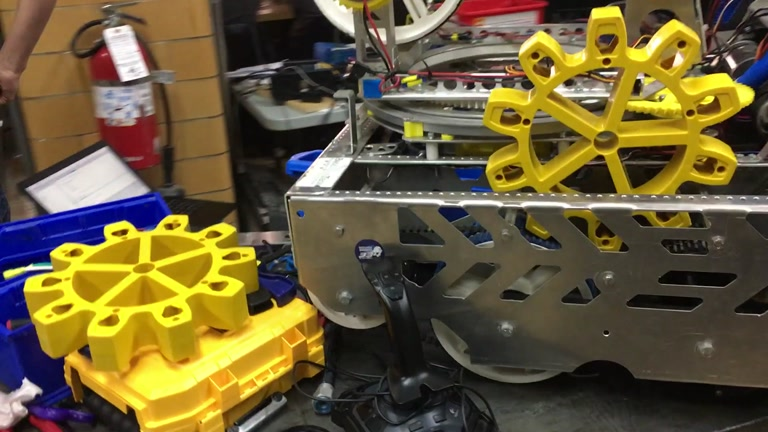gear: (481, 5, 743, 252), (24, 215, 255, 371)
